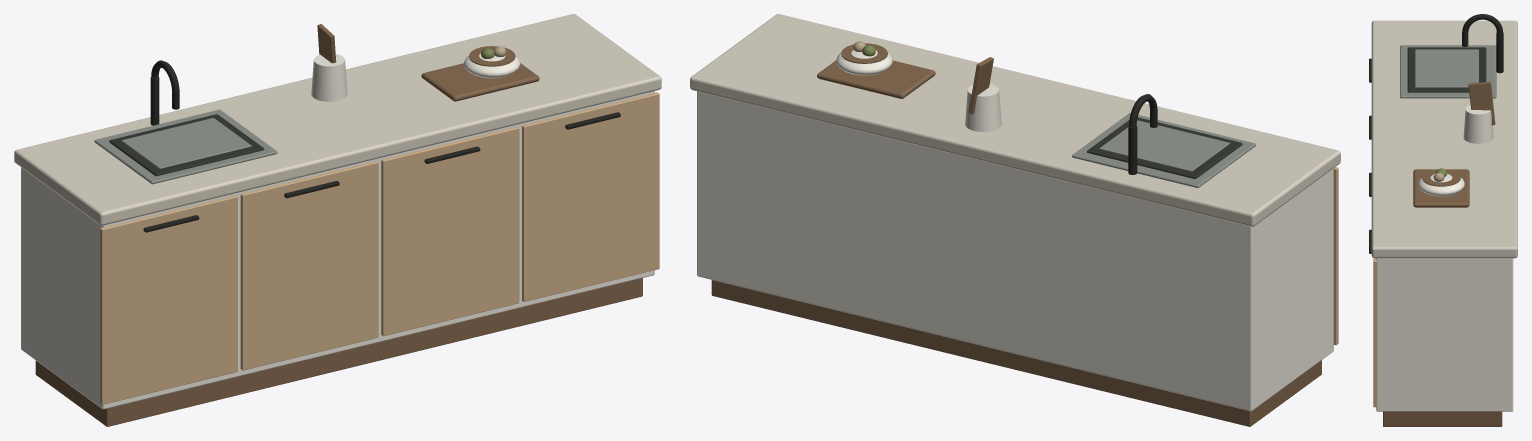
Rendered from kitchenCounter.glb.
3 views of the same model, side by side, from view 1: azimuth 30°, elevation 25°; view 2: azimuth 150°, elevation 25°; view 3: azimuth 270°, elevation 25° (orthographic). The views are drawn at different scales.
Visible parts, largest first — view 1: studio/oakLight, studio/stone, studio/cream, studio/oakDark, studio/metal, studio/ceramic, studio/black, studio/charcoal; view 2: studio/cream, studio/stone, studio/oakDark, studio/metal, studio/ceramic, studio/charcoal, studio/oakLight, studio/black; view 3: studio/stone, studio/cream, studio/oakDark, studio/metal, studio/ceramic, studio/charcoal, studio/black (×2), studio/oakLight.
Part boxes in pixels (<box>): studio/oakLight: <box>100,92,659,404</box>; studio/stone: <box>14,14,661,225</box>; studio/cream: <box>21,91,654,409</box>; studio/oakDark: <box>35,24,642,426</box>; studio/metal: <box>94,109,277,184</box>; studio/ceramic: <box>311,53,520,101</box>; studio/black: <box>143,77,620,232</box>; studio/charcoal: <box>109,114,264,176</box>; studio/cream: <box>697,91,1333,411</box>; studio/stone: <box>690,14,1340,226</box>; studio/oakDark: <box>711,43,1321,426</box>; studio/metal: <box>1072,113,1255,187</box>; studio/ceramic: <box>836,50,1001,131</box>; studio/charcoal: <box>1087,117,1242,178</box>; studio/oakLight: <box>1333,167,1338,345</box>; studio/black: <box>1128,110,1157,174</box>; studio/stone: <box>1371,20,1517,258</box>; studio/cream: <box>1376,258,1513,411</box>; studio/oakDark: <box>1383,81,1502,426</box>; studio/metal: <box>1400,45,1496,98</box>; studio/ceramic: <box>1418,105,1493,196</box>; studio/charcoal: <box>1407,47,1486,92</box>; studio/black (×2): <box>1369,14,1503,253</box>; studio/oakLight: <box>1373,258,1377,407</box>.
Size of the model in its own units: 2.4 by 1.19 by 0.662.
